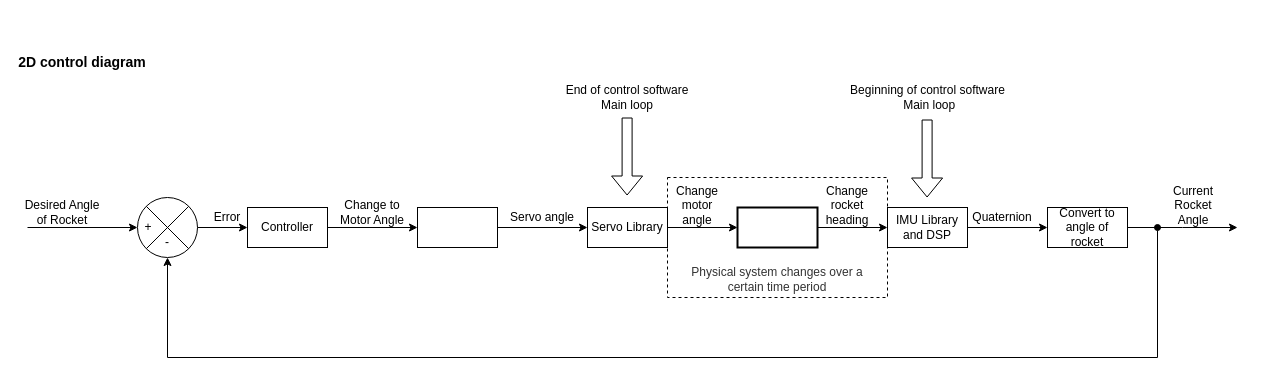
Image size: 1263x384. Some labels were removed from this diagram. The centre of each missing label's shape, as x and y in pixels:
Conversion to Servo angle: (x=457, y=227)
Physical system: (x=777, y=227)
